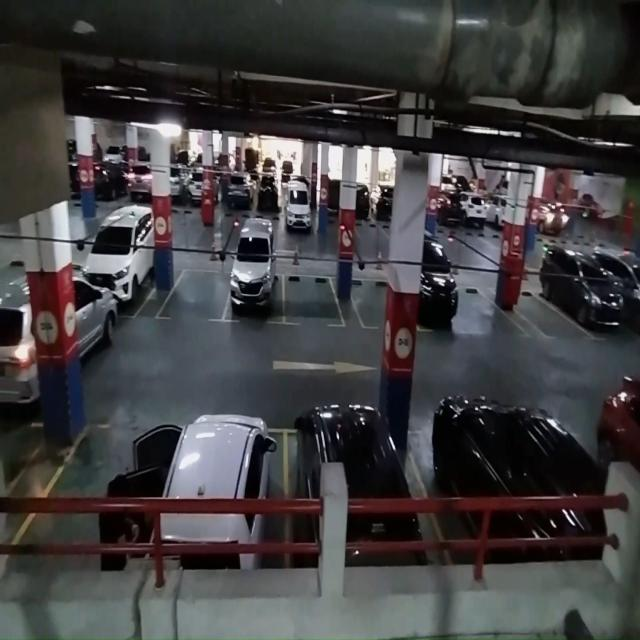empty: (32, 422, 156, 571), (282, 271, 346, 329), (158, 269, 226, 322), (350, 276, 389, 331)
occupied: (156, 426, 288, 570), (284, 424, 410, 568), (94, 222, 154, 320), (226, 237, 284, 326)
